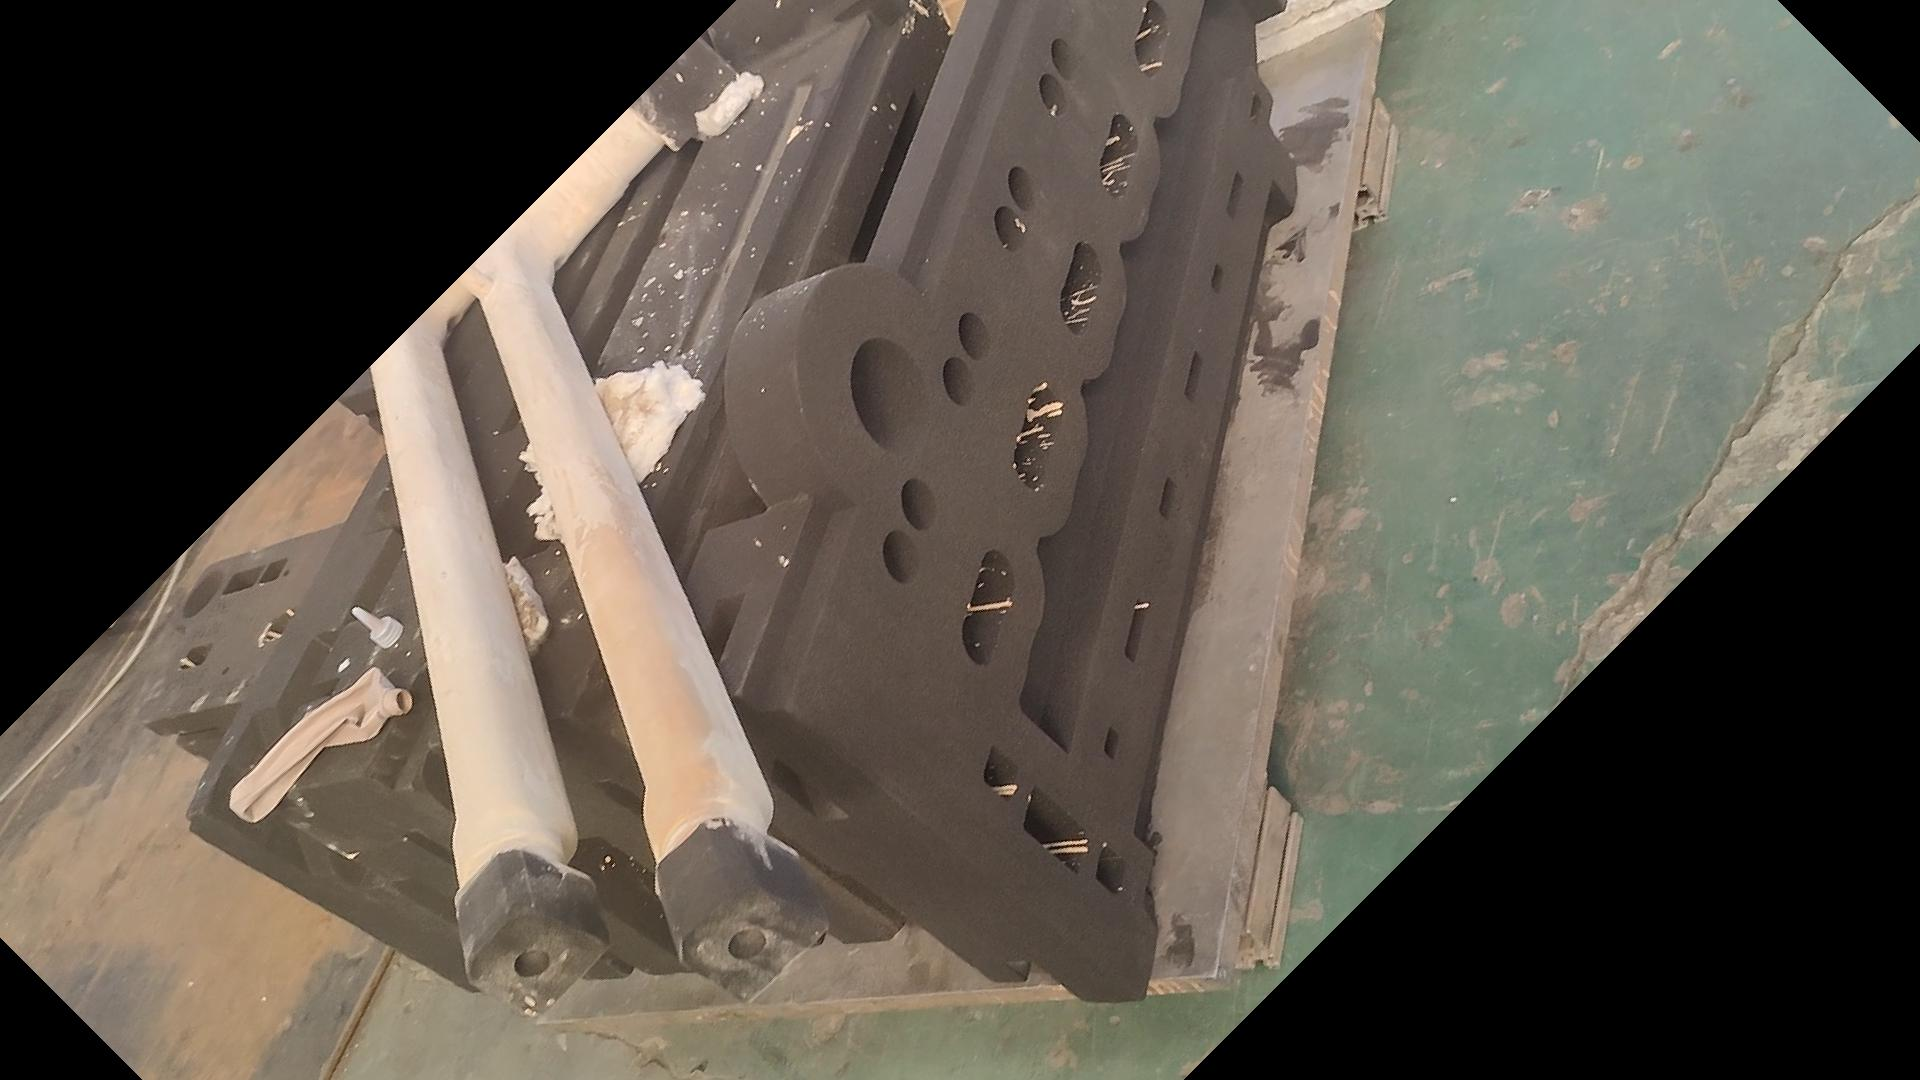pouring hole: (851, 338, 928, 454), (181, 568, 223, 617)
